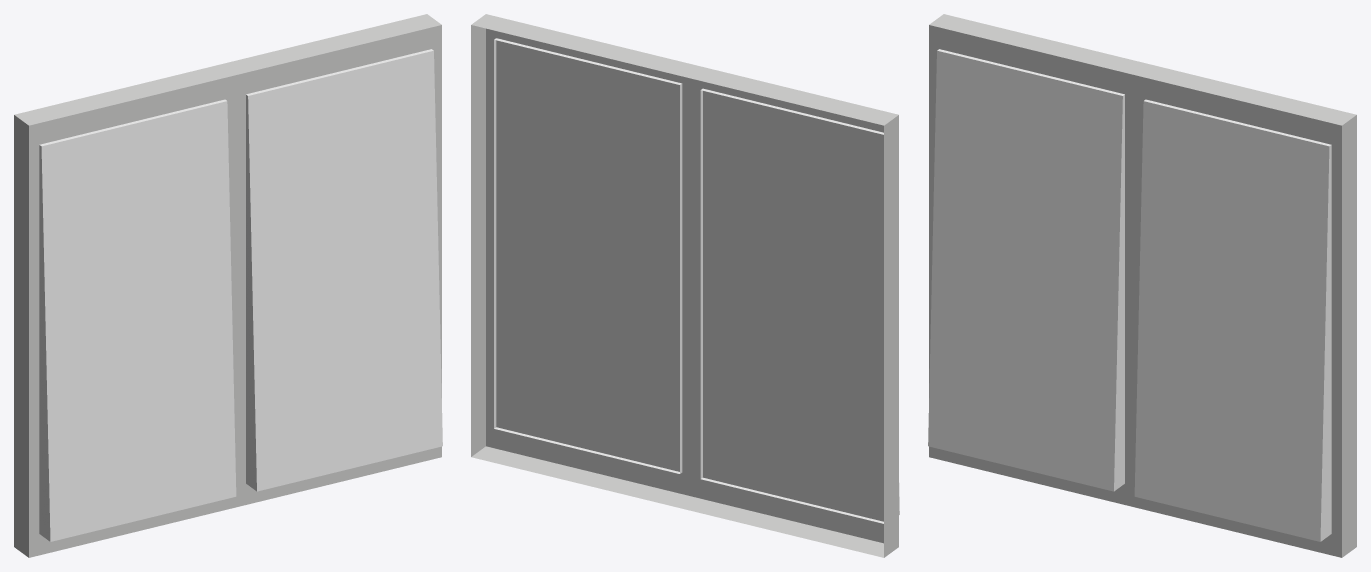
Rendered from Light_Turn.fbx.
3 views of the same model, side by side, from view 1: azimuth 30°, elevation 25°; view 2: azimuth 150°, elevation 25°; view 3: azimuth 330°, elevation 25° (orthographic).
Parts seen in each view (by area): view 1: Light_Turn; view 2: Light_Turn; view 3: Light_Turn.
Boxes of the visible parts, bbox=[...] form: Light_Turn: bbox=[14, 14, 442, 557]; Light_Turn: bbox=[471, 14, 899, 557]; Light_Turn: bbox=[928, 14, 1356, 557].
Size of the model in its own units: 8 by 8 by 0.875.
